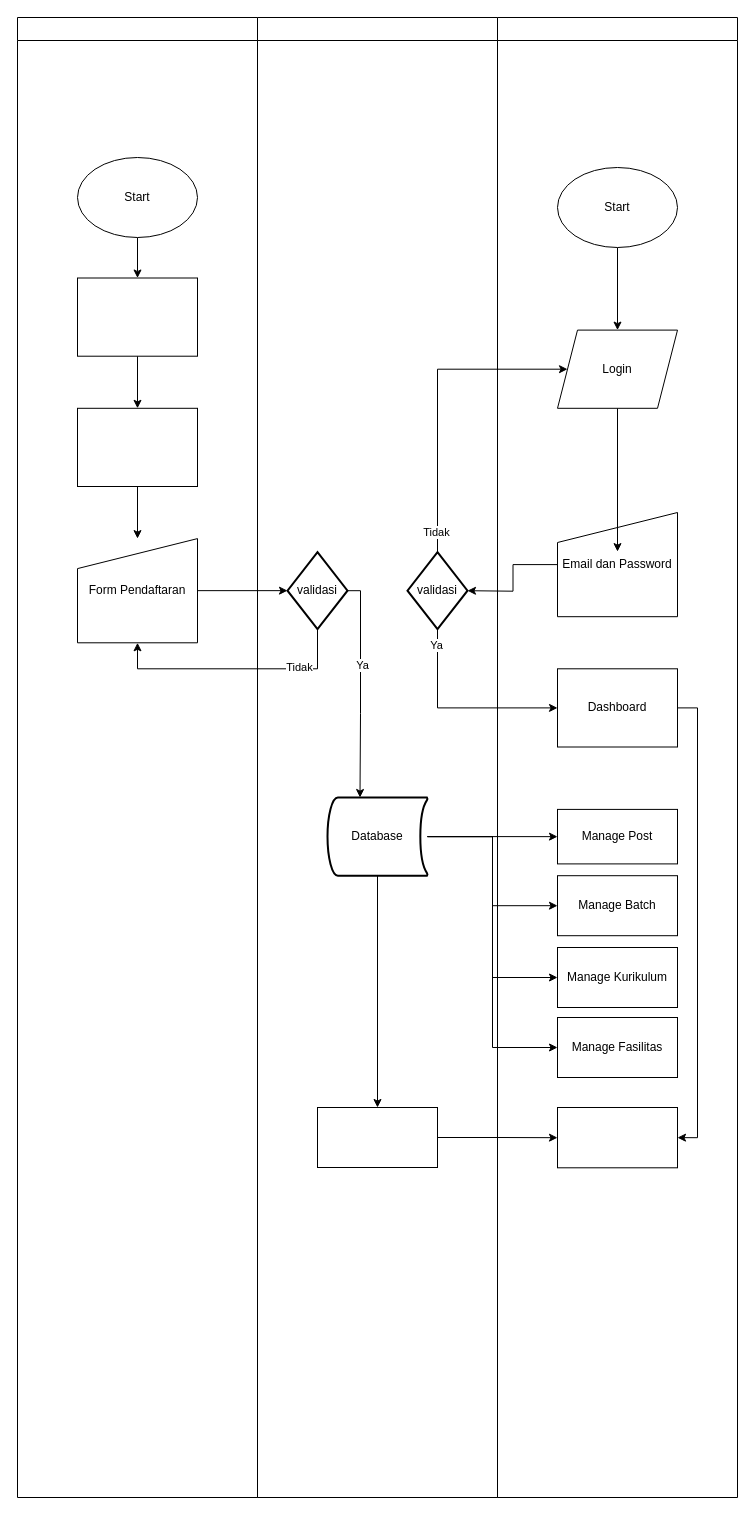
This 755x1515 diagram has some shape labels left out. Each missing label, with the box of its shape:
Admin: (496, 16, 738, 1498)
Calon Siswa Baru: (16, 16, 258, 1498)
Halaman Informasi PPDB: (76, 407, 198, 486)
Halaman Utama: (76, 277, 198, 356)
Manage Pendaftar: (556, 1106, 678, 1168)
Proses SAW: (316, 1106, 438, 1168)
Sistem: (256, 16, 498, 1498)
